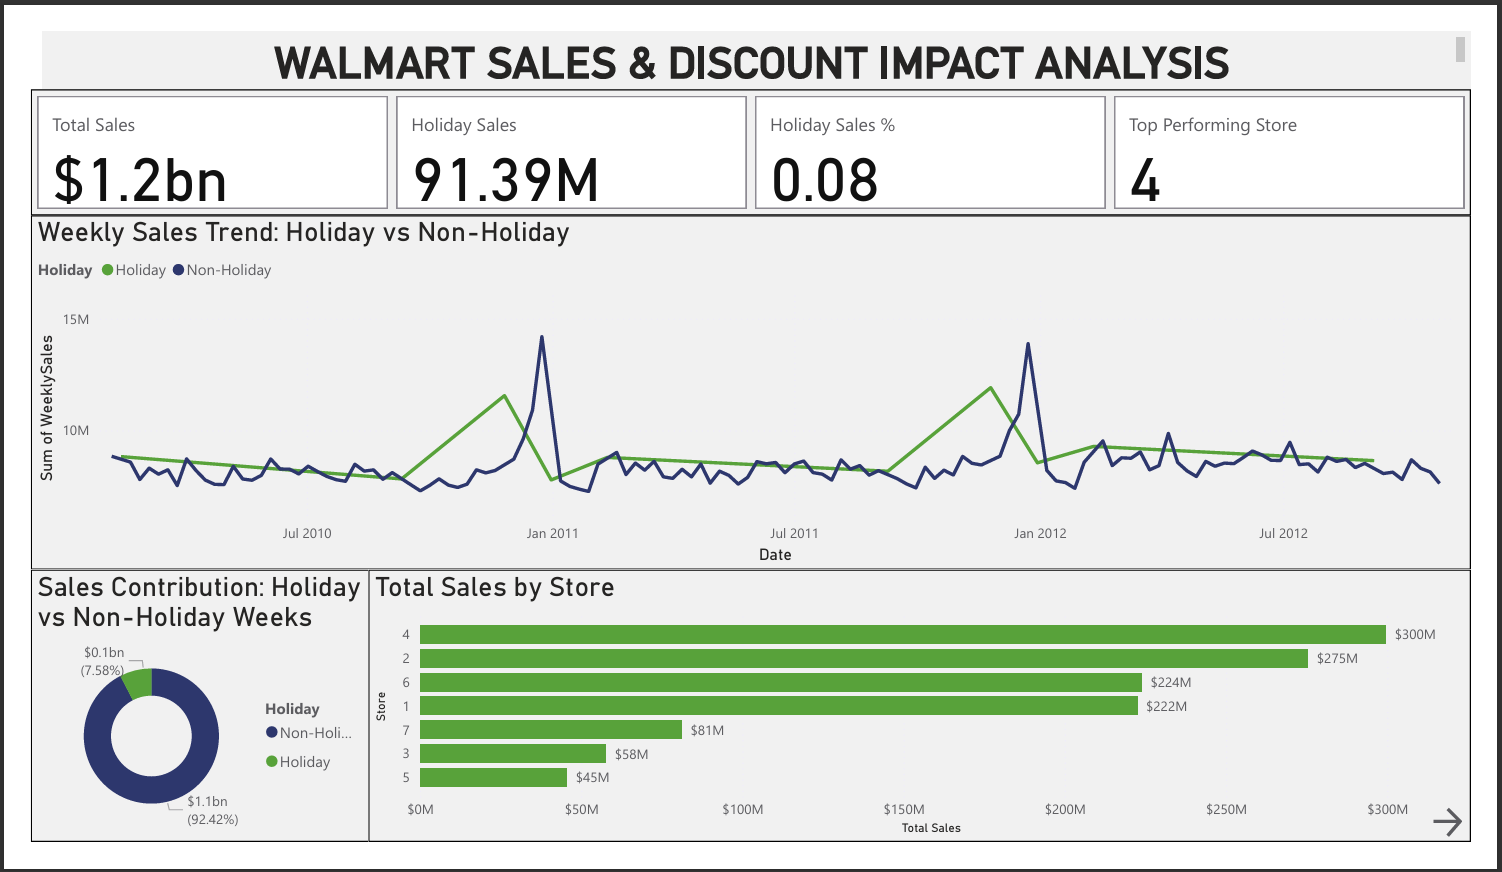

Layout of this report page (visuals, bound fields, positions):
{"tool":"powerbi","page":{"name":"Sales Performance Overview","canvas":[1280,720],"ordinal":0},"visuals":[{"type":"textbox","box":[9.6,0,1270.7,50.8],"z":0},{"type":"cardVisual","fields":{"Data":["cleaned_walmart_sales.Total Sales","cleaned_walmart_sales.Holiday Sales","cleaned_walmart_sales.Holiday Sales %","cleaned_walmart_sales.Top Store"]},"box":[0,51.2,1280.3,111.7],"z":1000},{"type":"lineChart","title":"Weekly Sales Trend: Holiday vs Non-Holiday","fields":{"Y":["Sum(cleaned_walmart_sales.WeeklySales)"],"Category":["cleaned_walmart_sales.Date"],"Series":["cleaned_walmart_sales.Holiday"]},"box":[0,162.9,1280.3,315],"z":2000},{"type":"donutChart","title":"Sales Contribution: Holiday vs Non-Holiday Weeks","fields":{"Category":["cleaned_walmart_sales.Holiday"],"Y":["cleaned_walmart_sales.Total Sales"]},"box":[0,478.1,300.8,242.1],"z":3000},{"type":"clusteredBarChart","fields":{"Category":["cleaned_walmart_sales.Store"],"Y":["cleaned_walmart_sales.Total Sales"]},"box":[300,478,980,242],"z":4000},{"type":"actionButton","box":[1241.2,685.2,39,35],"z":5000}]}

Visuals, with their boxes on the page's 1280x720 design canvas (x1, y1, x2, y2). These are canvas units, not pixel positions in the 1502x872 screenshot, which may show the page scaled, cropped or inside an application window:
textbox: <region>10, 0, 1280, 51</region>
cardVisual - cleaned_walmart_sales.Total Sales x cleaned_walmart_sales.Holiday Sales: <region>0, 51, 1280, 163</region>
"Weekly Sales Trend: Holiday vs Non-Holiday" lineChart: <region>0, 163, 1280, 478</region>
"Sales Contribution: Holiday vs Non-Holiday Weeks" donutChart: <region>0, 478, 301, 720</region>
clusteredBarChart - cleaned_walmart_sales.Store x cleaned_walmart_sales.Total Sales: <region>300, 478, 1280, 720</region>
actionButton: <region>1241, 685, 1280, 720</region>
